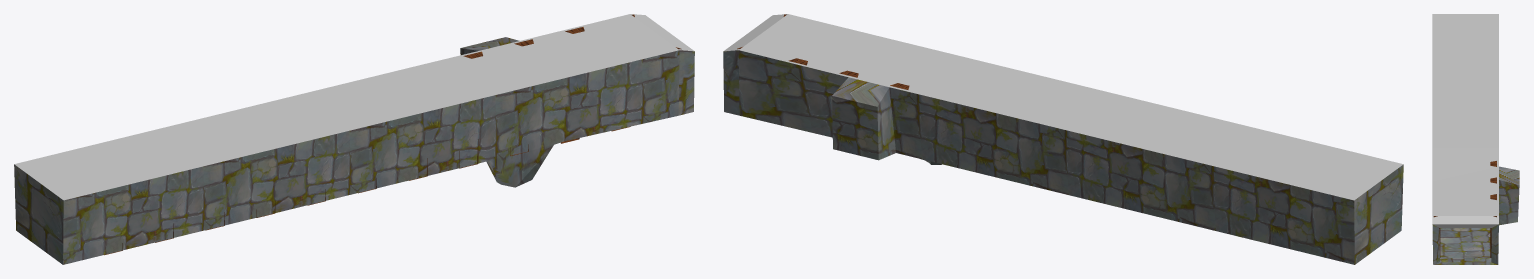
The model's file is Pasillo.fbx.
3 views of the same model, side by side, from view 1: azimuth 30°, elevation 25°; view 2: azimuth 150°, elevation 25°; view 3: azimuth 270°, elevation 25° (orthographic). The views are drawn at different scales.
Visible parts, largest first — view 1: Camino, Techo; view 2: Camino, Techo; view 3: Techo, Camino.
Part boxes in pixels (x1,y1,x2,y2): Camino: (14,14,694,264); Techo: (14,14,694,200); Camino: (723,14,1403,264); Techo: (724,14,1403,200); Techo: (1432,14,1498,227); Camino: (1432,161,1519,264).
Bounding box in the file's own units: 80.37 × 14.32 × 11.95.
